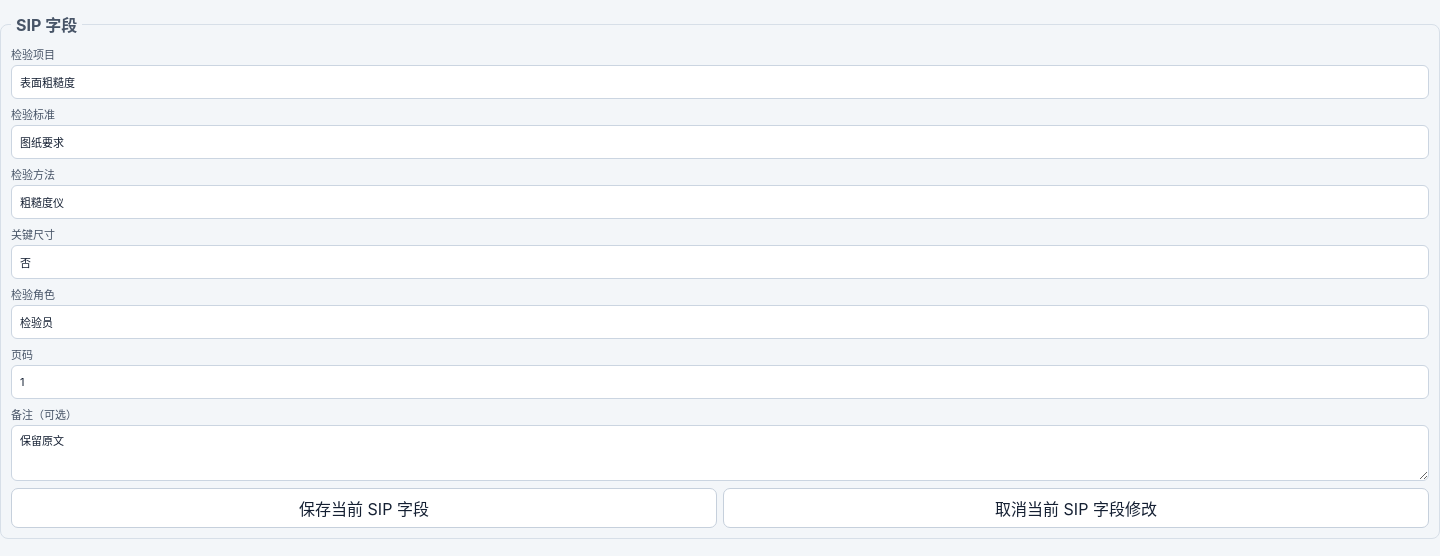
Test: 取消修改恢复当前后端备注基线且不发送 command
The image size is (1440, 556).
Replace the text in the text box named "备注（可选）：Ra 3.2" with "临时修改" at (720, 453), box left=11, top=425, right=1429, bottom=481
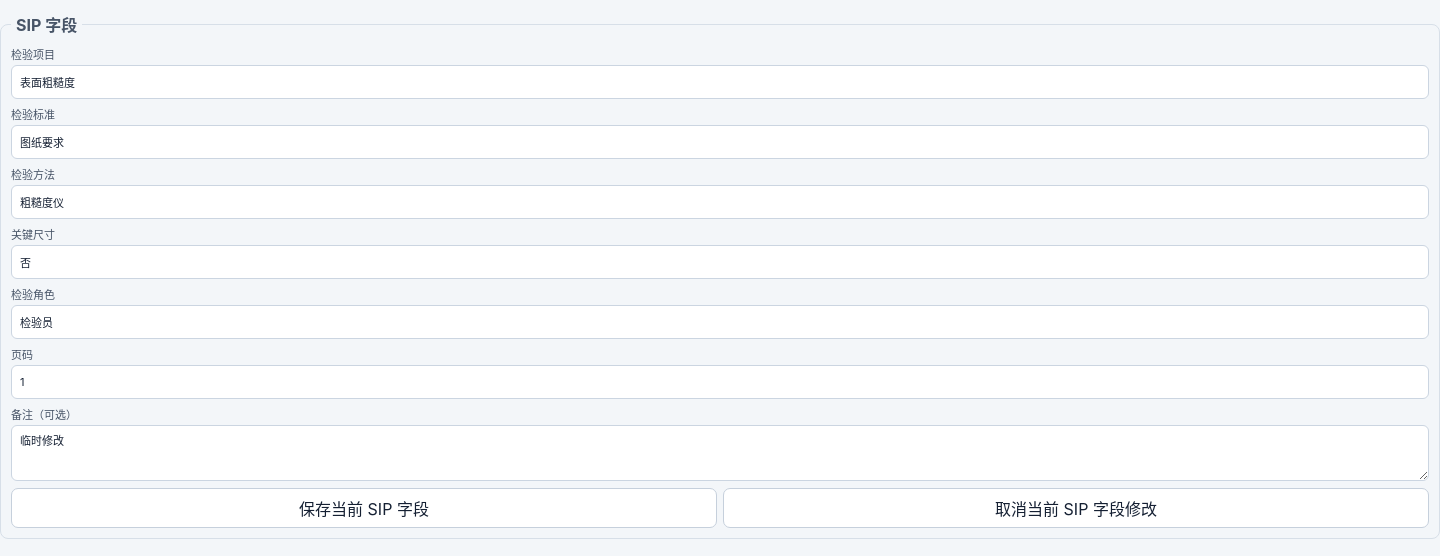
Click the button "取消当前 SIP 字段修改".
click(1076, 508)  # box left=723, top=488, right=1429, bottom=528
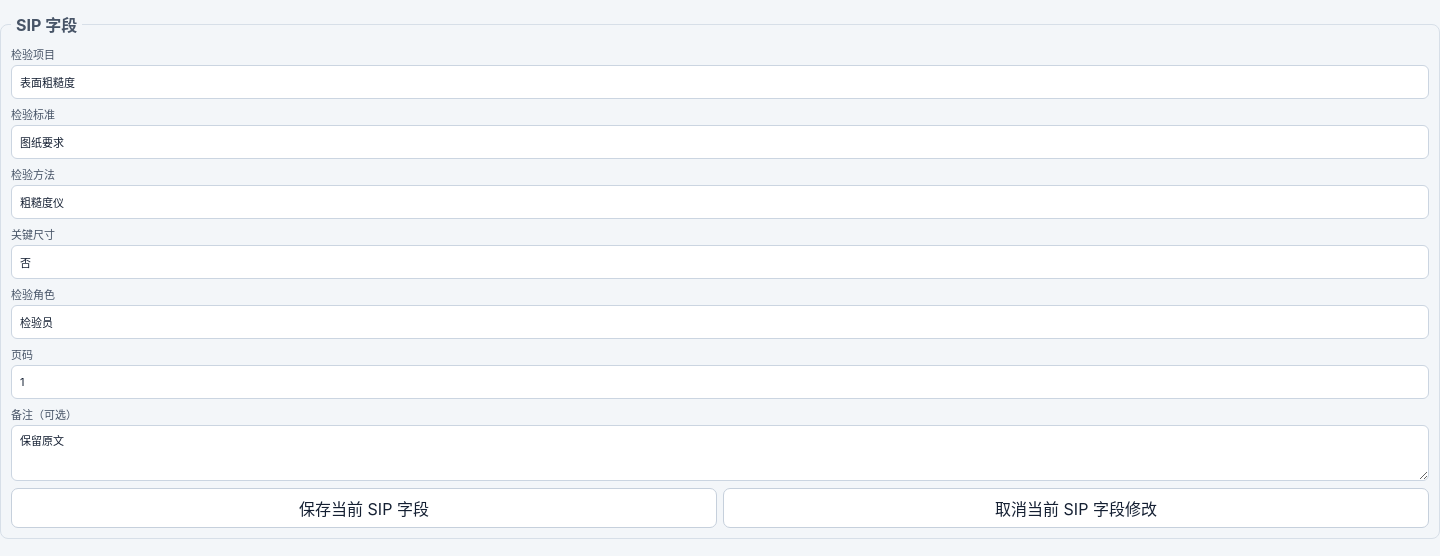
Expected: the text box named "备注（可选）：Ra 3.2" holds "保留原文", left=11, top=425, right=1429, bottom=481
